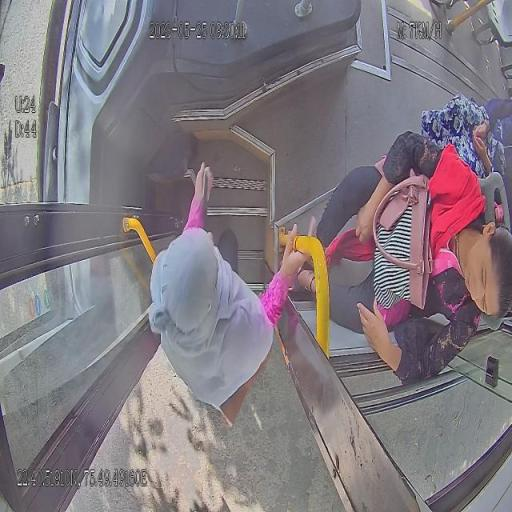persona: (280, 130, 512, 386), (148, 161, 318, 429), (420, 93, 511, 182)
